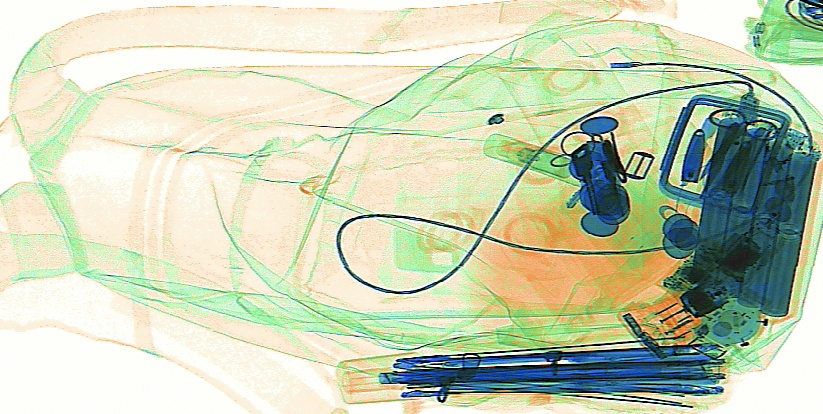powerbank: (681, 113, 820, 328)
scissors: (697, 107, 777, 200)
